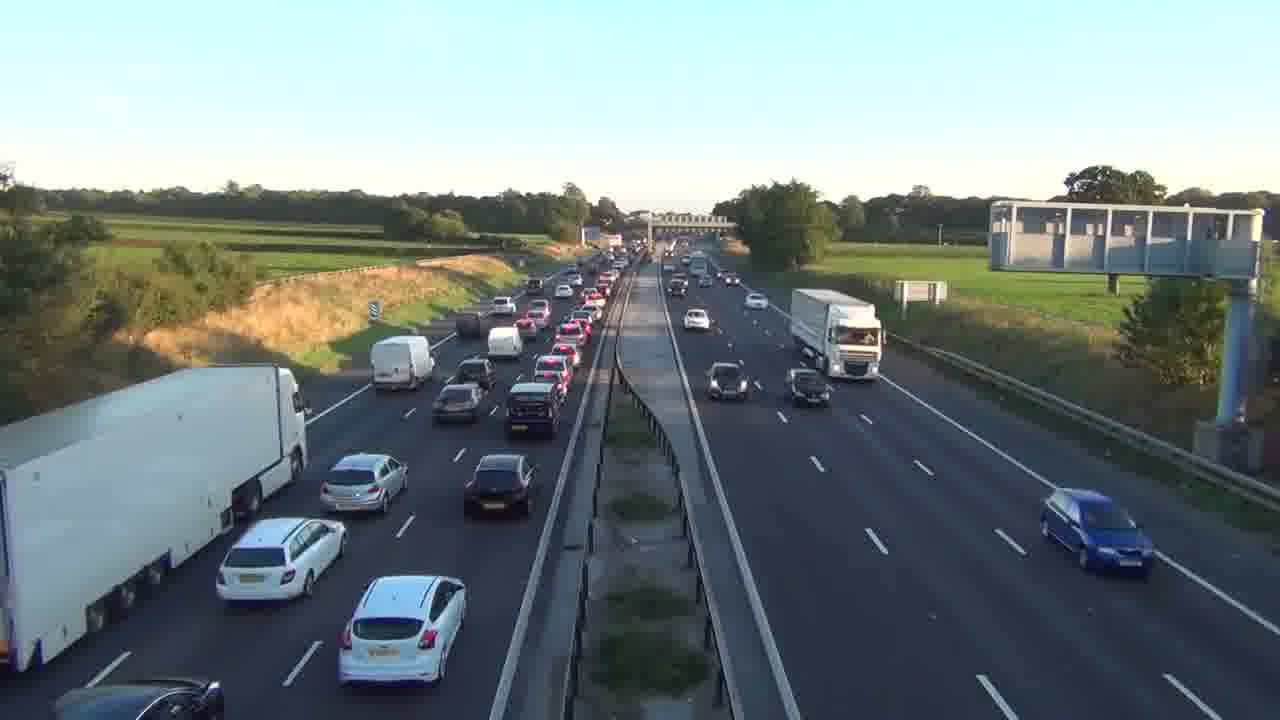bus: (789, 287, 883, 382)
car: (337, 574, 468, 691), (215, 515, 347, 604), (1039, 486, 1155, 578), (52, 676, 226, 719), (319, 452, 408, 517), (463, 452, 536, 518), (505, 378, 562, 439), (433, 380, 484, 424), (705, 360, 753, 403), (785, 367, 833, 408), (456, 355, 497, 390), (683, 307, 711, 331)
truck: (0, 363, 309, 673), (369, 334, 434, 391), (487, 325, 523, 358)
